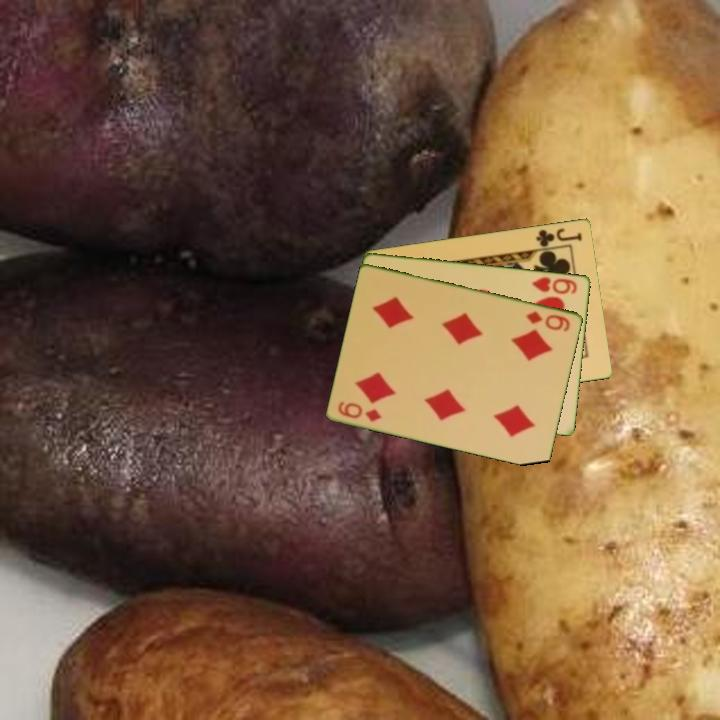6d: (523, 307, 573, 334), (335, 397, 385, 424)
6h: (529, 273, 580, 297)
Jc: (533, 224, 585, 249)
